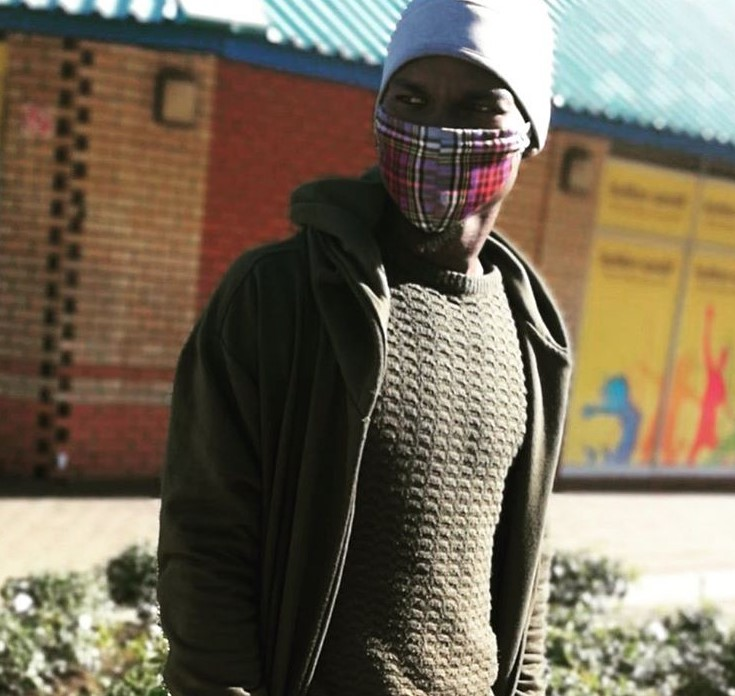face_with_mask: (370, 0, 559, 235)
